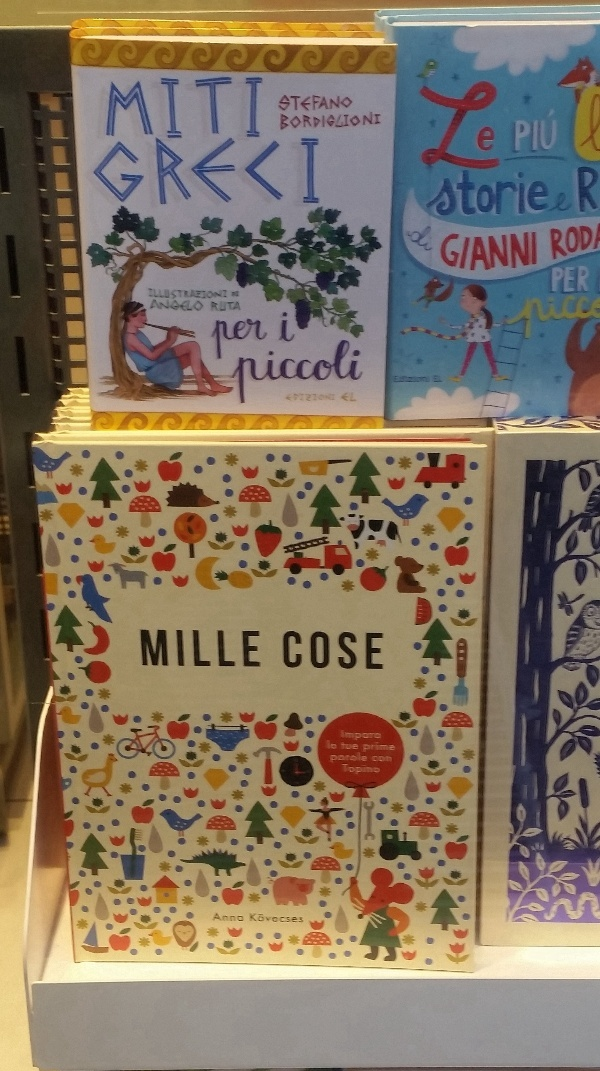text: (433, 79, 448, 173), (449, 79, 464, 173), (465, 79, 480, 173), (481, 79, 496, 173), (420, 79, 432, 173), (241, 335, 256, 410), (257, 335, 272, 410), (273, 335, 288, 410), (289, 335, 304, 410), (305, 335, 320, 410), (321, 335, 336, 410), (337, 335, 352, 410), (97, 136, 112, 206), (113, 136, 128, 206), (129, 136, 144, 206), (145, 136, 160, 206), (161, 136, 176, 206), (177, 136, 192, 206), (193, 136, 208, 206), (209, 136, 224, 206), (225, 136, 240, 206), (241, 136, 256, 206), (257, 136, 272, 206), (273, 136, 288, 206), (289, 136, 304, 206), (305, 136, 320, 206), (113, 76, 128, 140), (129, 76, 144, 140), (145, 76, 160, 140), (161, 76, 176, 140), (177, 76, 192, 140), (193, 76, 208, 140), (209, 76, 224, 140), (225, 76, 240, 140), (241, 76, 256, 140), (577, 289, 593, 348), (513, 289, 528, 348), (529, 289, 544, 348), (545, 289, 560, 348), (561, 289, 576, 348), (433, 167, 448, 220), (449, 167, 464, 220), (465, 167, 480, 220), (481, 167, 496, 220), (497, 167, 512, 220), (513, 167, 528, 220), (529, 167, 544, 220), (353, 335, 363, 410), (225, 318, 240, 366), (241, 318, 256, 366), (529, 107, 544, 154), (449, 230, 464, 276), (465, 230, 480, 276), (481, 230, 496, 276), (497, 230, 512, 276), (513, 230, 528, 276), (289, 630, 304, 672), (305, 630, 320, 672), (321, 630, 336, 672), (337, 630, 352, 672), (353, 630, 368, 672), (145, 629, 160, 670), (161, 629, 176, 670), (177, 629, 192, 670), (193, 629, 208, 670), (209, 629, 224, 670), (225, 629, 240, 670), (241, 629, 256, 670), (515, 107, 528, 154), (545, 107, 558, 154), (232, 335, 240, 410), (369, 630, 383, 672), (212, 318, 224, 366), (257, 318, 269, 366), (561, 224, 576, 260), (577, 224, 592, 260), (417, 221, 432, 254), (561, 264, 576, 294), (529, 230, 538, 276), (549, 224, 560, 260), (257, 76, 263, 140), (497, 79, 501, 173), (577, 264, 589, 294), (337, 94, 353, 113), (289, 94, 304, 113), (305, 94, 320, 113), (321, 94, 336, 113), (289, 112, 304, 131), (305, 112, 320, 131), (321, 112, 336, 131), (337, 112, 352, 131), (353, 112, 368, 131), (442, 230, 448, 276), (289, 311, 297, 345), (427, 167, 432, 220), (508, 289, 512, 348), (369, 112, 381, 131), (161, 298, 176, 313), (177, 298, 192, 313), (353, 764, 368, 779), (337, 753, 352, 768), (545, 167, 549, 220), (283, 630, 288, 672), (353, 753, 367, 768), (553, 264, 560, 294), (139, 629, 144, 670), (257, 629, 262, 670), (282, 311, 288, 345), (353, 729, 368, 742), (289, 914, 305, 926), (225, 300, 240, 312), (257, 914, 272, 926), (273, 914, 288, 926), (279, 94, 288, 113), (369, 729, 382, 742), (161, 288, 176, 299), (177, 288, 192, 299), (193, 288, 208, 299), (209, 288, 224, 299), (225, 913, 240, 924), (369, 764, 380, 779), (369, 745, 384, 756), (211, 300, 224, 312), (193, 298, 203, 313), (289, 393, 304, 403), (305, 393, 320, 403), (321, 393, 336, 403), (342, 764, 352, 779), (401, 375, 416, 384), (281, 112, 288, 131), (148, 288, 160, 299), (342, 729, 352, 742), (433, 375, 448, 383), (327, 740, 336, 753), (417, 375, 430, 384), (342, 392, 352, 403), (385, 745, 395, 756), (373, 756, 384, 766), (153, 298, 160, 313), (342, 743, 352, 752), (330, 753, 336, 768), (385, 756, 393, 766), (217, 913, 224, 924), (250, 914, 256, 926), (593, 224, 595, 260), (95, 136, 96, 206), (111, 76, 112, 140), (363, 745, 368, 756), (353, 743, 359, 752), (394, 375, 400, 384), (353, 392, 357, 403), (241, 913, 245, 924), (225, 288, 227, 299), (241, 300, 242, 312), (287, 393, 288, 403)
